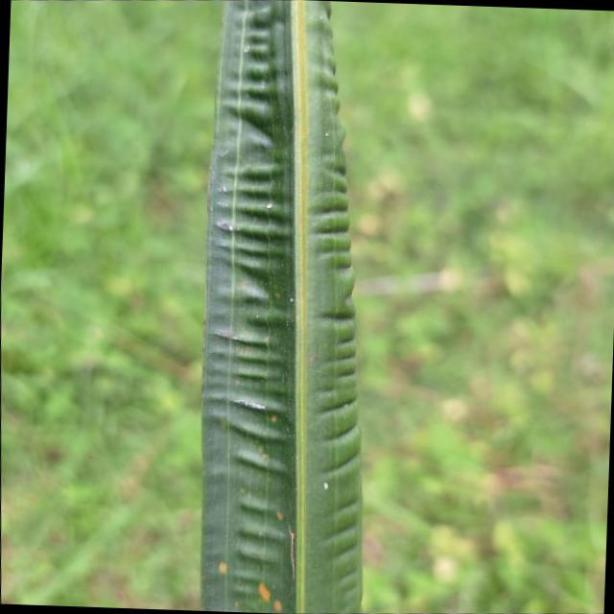Boron: (198, 0, 368, 614)
